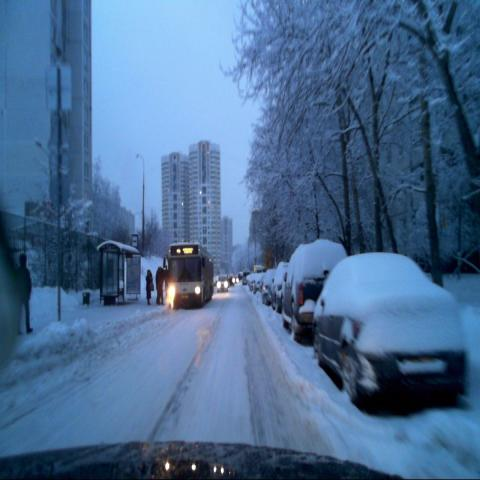5_16: (130, 234, 139, 253)
